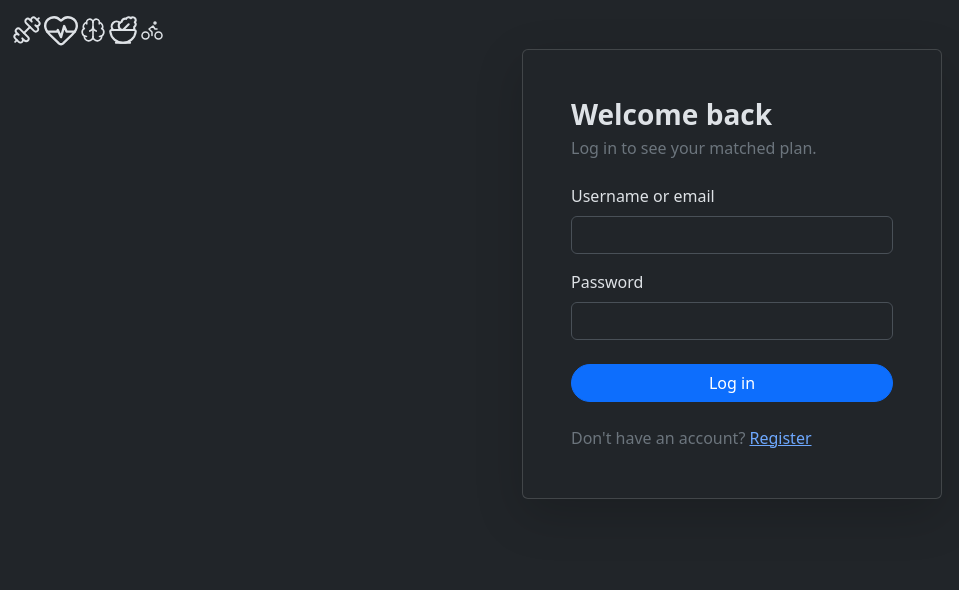
Test: shows an error and does not navigate when login fails
Type "jane" into the field labelled "Username or email". click: x=732, y=235
box: [571,216,893,254]
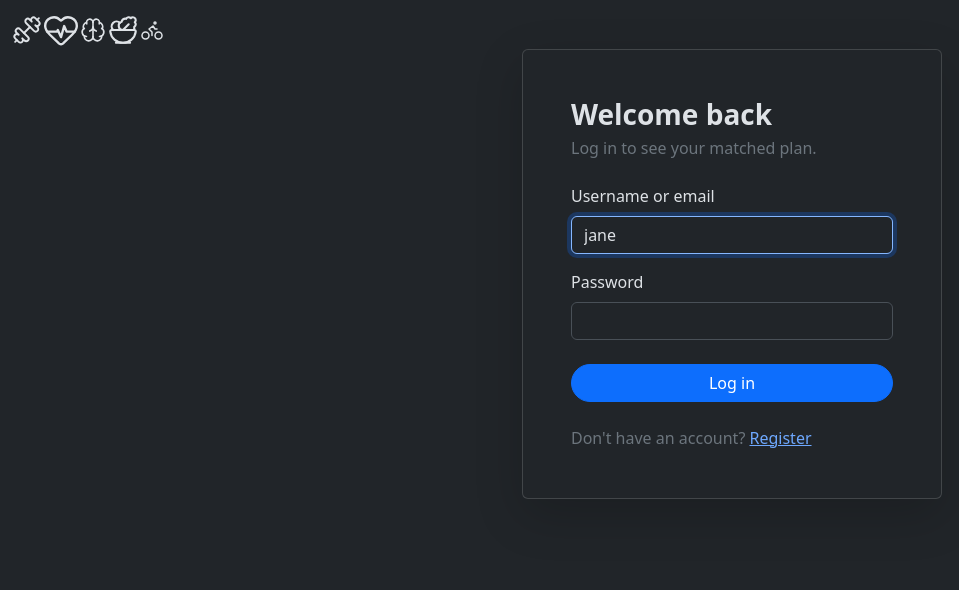
Type "wrong" into the password field labelled "Password". click: x=732, y=321
box: [571,302,893,340]
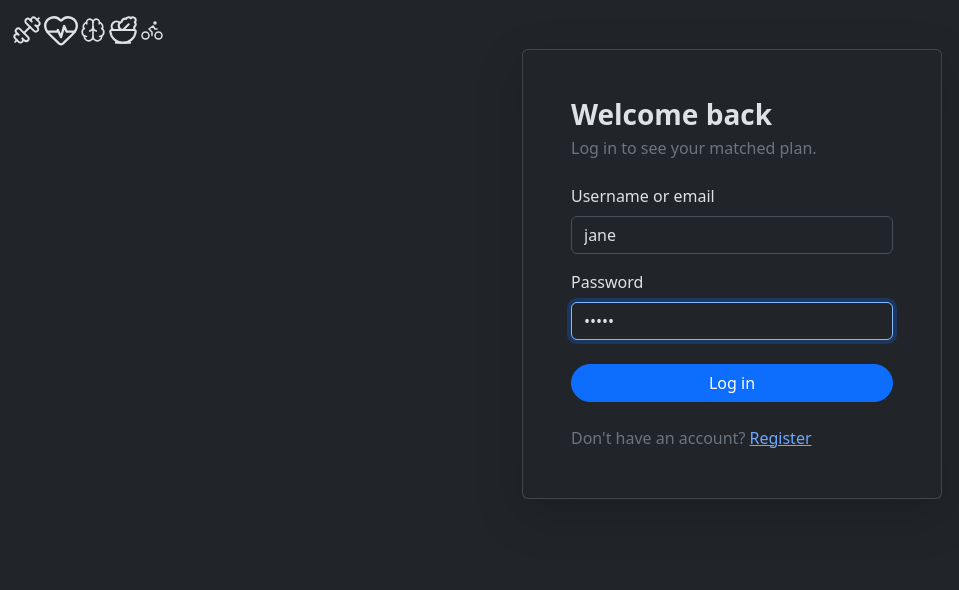
Click the button "Log in". click: x=732, y=383
box: [571,364,893,402]
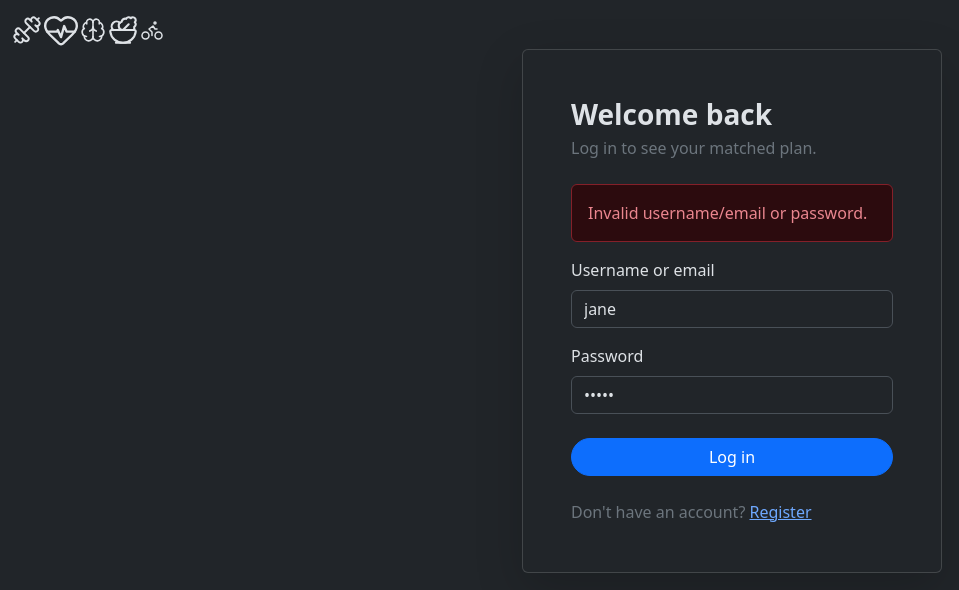
Expected: the text "Invalid username/email or password." is shown, [571,184,893,242]
